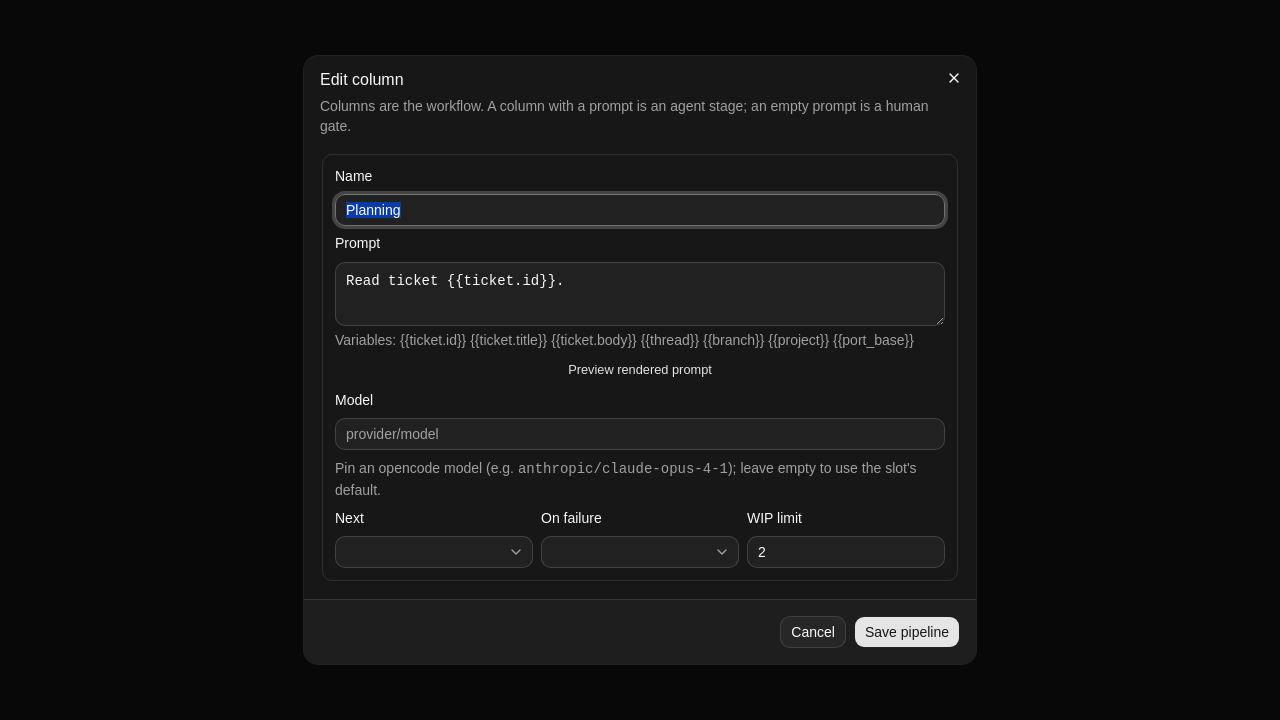
it: ColumnEditorDialog — single column › previews a rendered prompt
The width and height of the screenshot is (1280, 720).
Click the button "Preview rendered prompt".
click(640, 370)  # box 335,358 -> 945,382
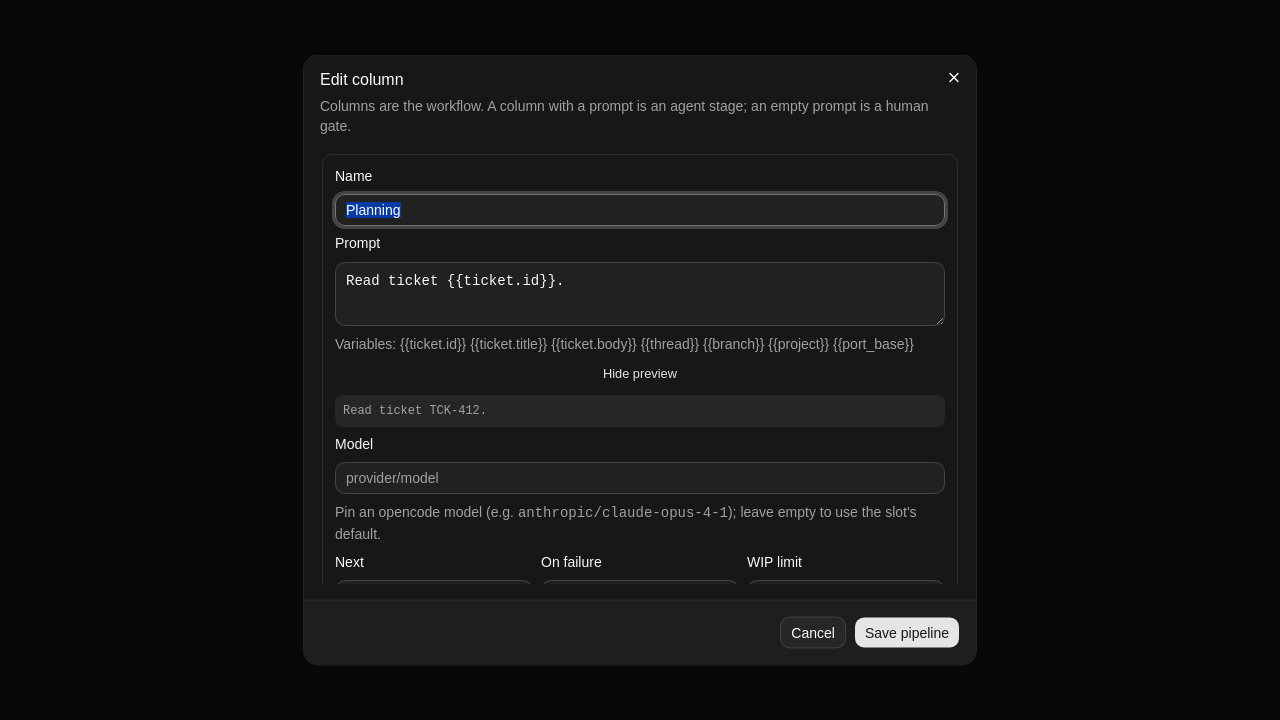
Result: the text "Read ticket TCK-412." is shown at 335,394 -> 945,426
